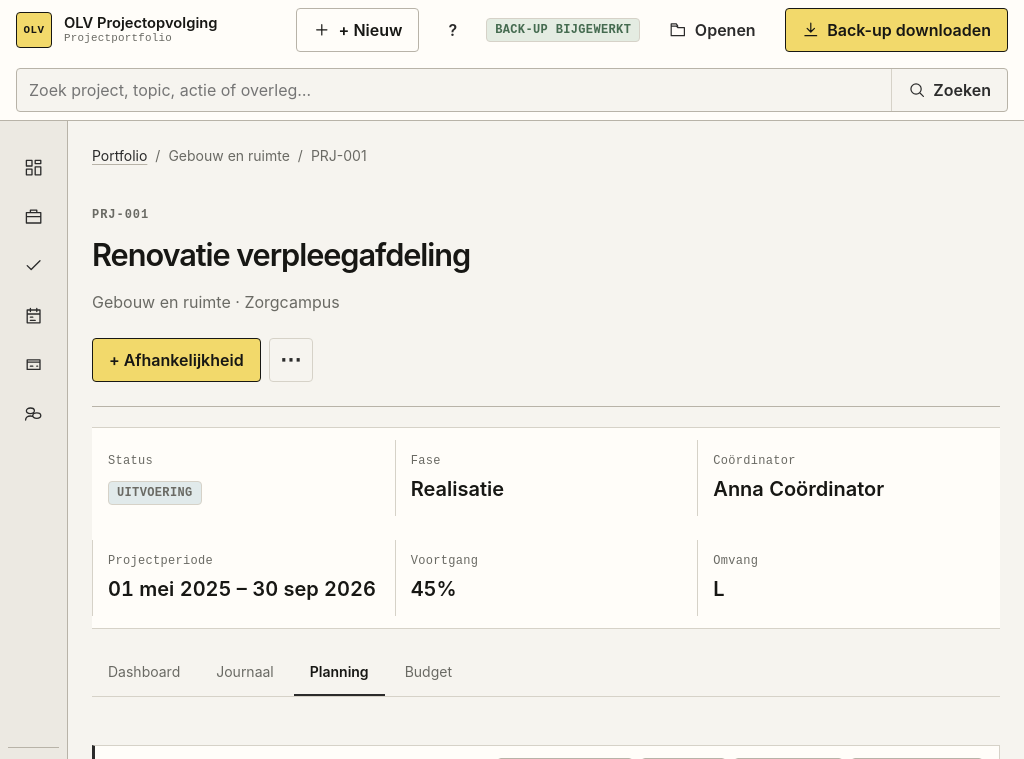
Test: projectformulier met inline beheer › gebruikt vanuit Planning dezelfde volledige editor en keert met alle velden terug
Click the button named "Projectacties" at (291, 360), box [269, 338, 313, 382]
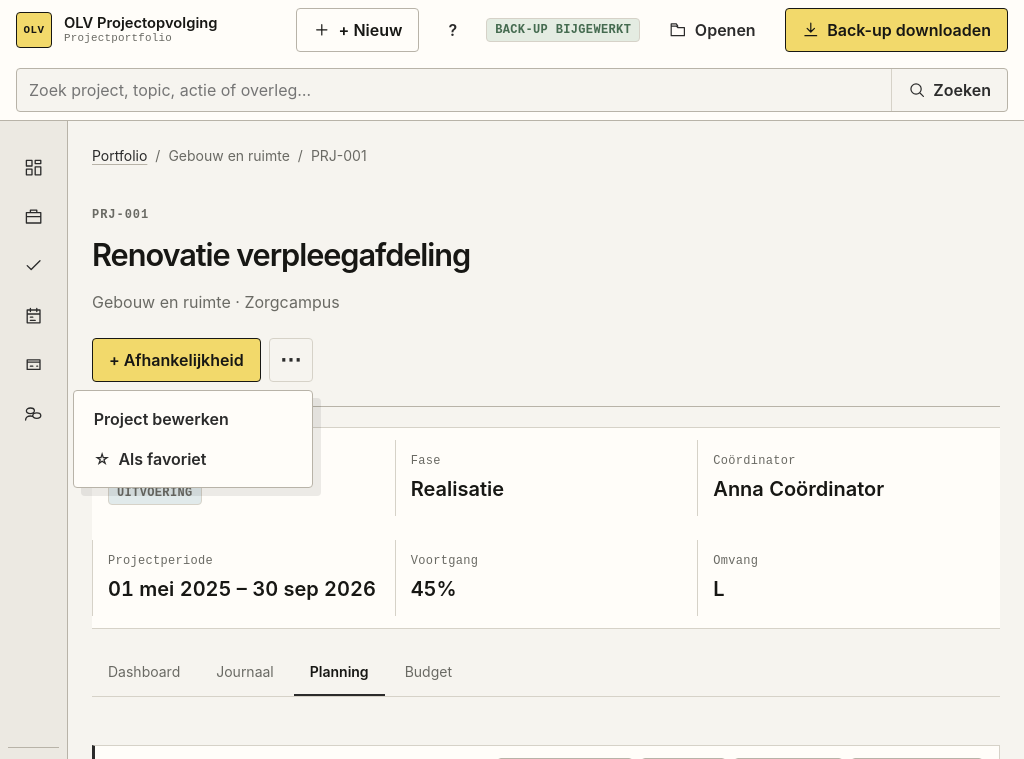
Click the button "Project bewerken" at (193, 419), box [82, 399, 304, 439]
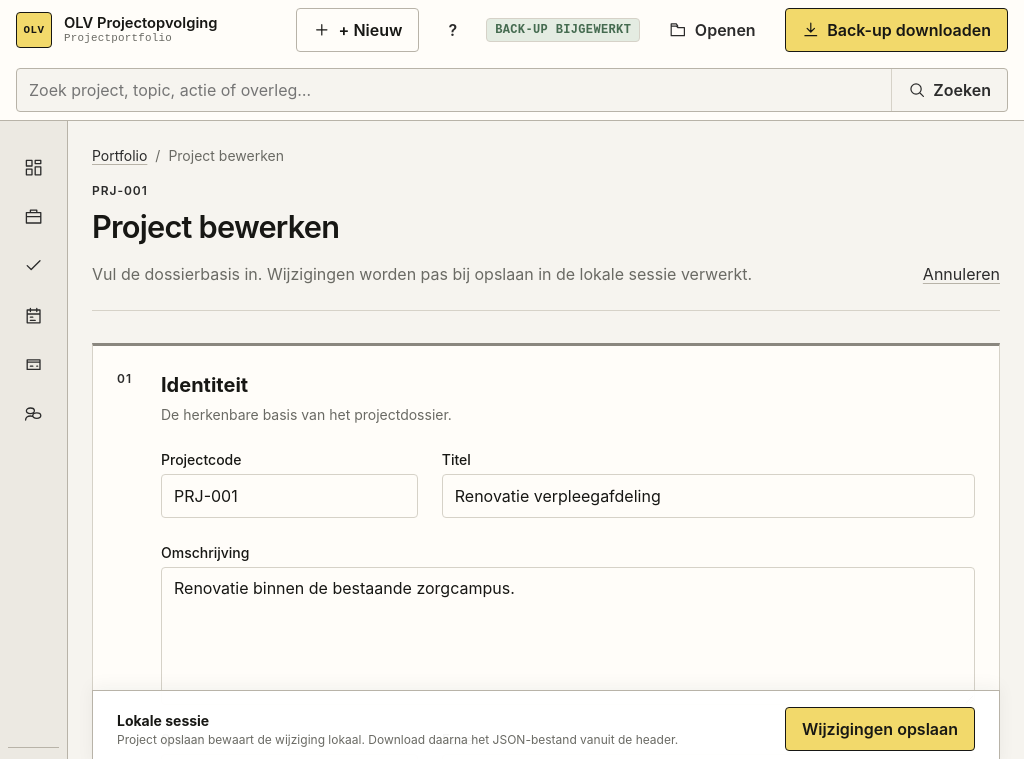
Replace the text in the field labelled "Titel" with "Renovatie met behouden omvang" at (708, 496), box [442, 474, 975, 518]
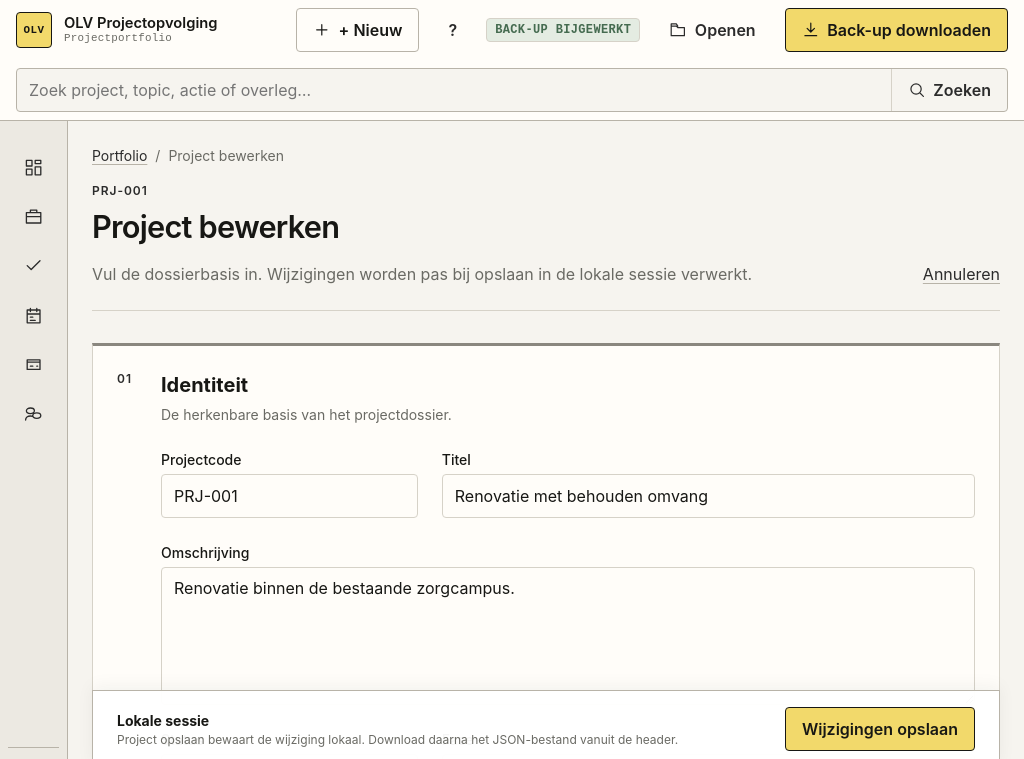
Click the button "Wijzigingen opslaan" at (880, 729), box [785, 707, 975, 751]
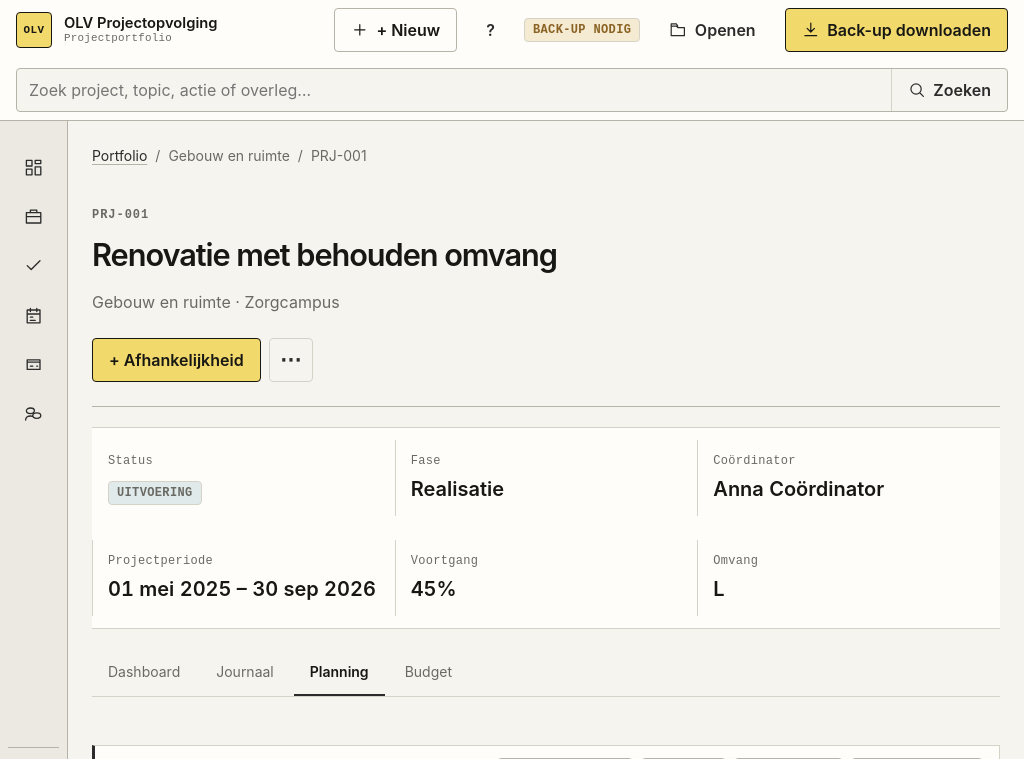
Now the heading "Renovatie met behouden omvang" is shown, box [92, 232, 557, 278]
